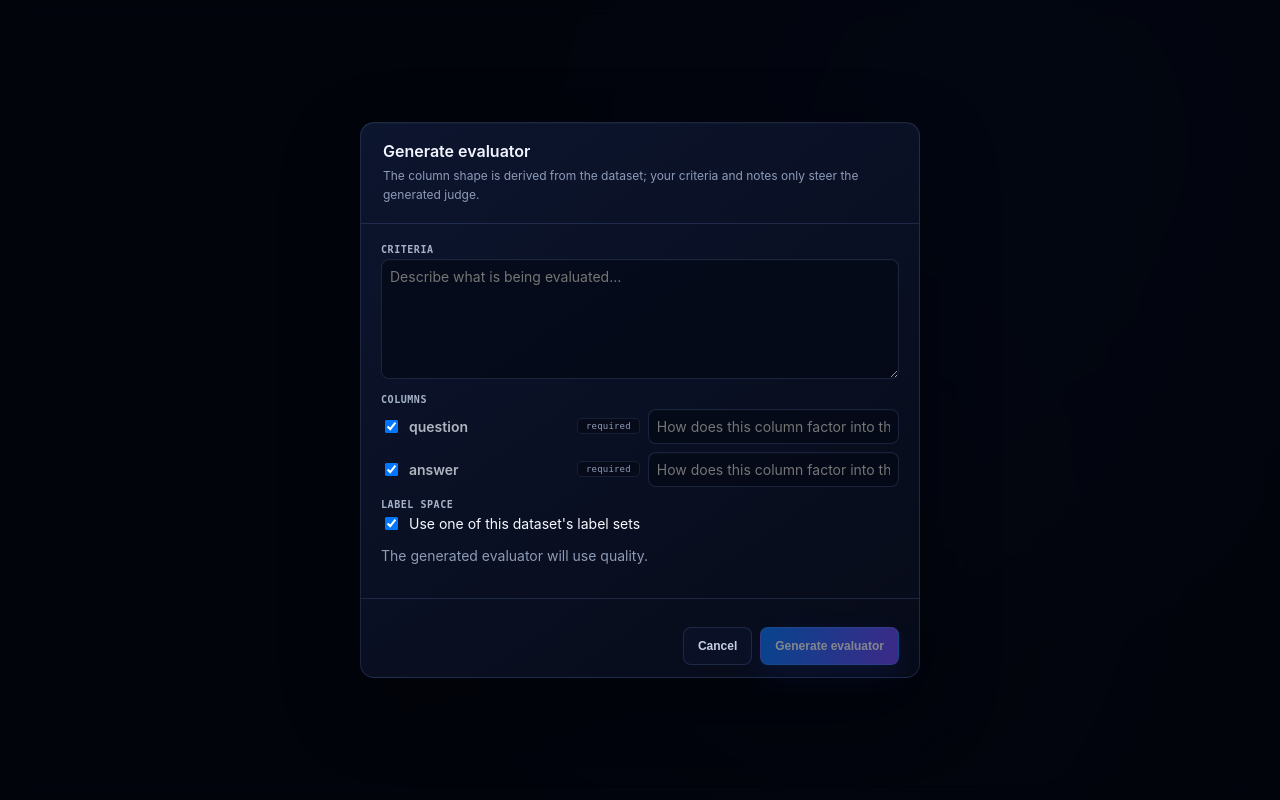
Scenario: EvaluatorFromDataset › keeps submit disabled until criteria are entered
The image size is (1280, 800).
Expected: the button "Generate evaluator" is disabled, [760,627,899,665]
Type "Judge answer quality." into the text box labelled "Criteria" at (640, 319), box [381,259,899,379]
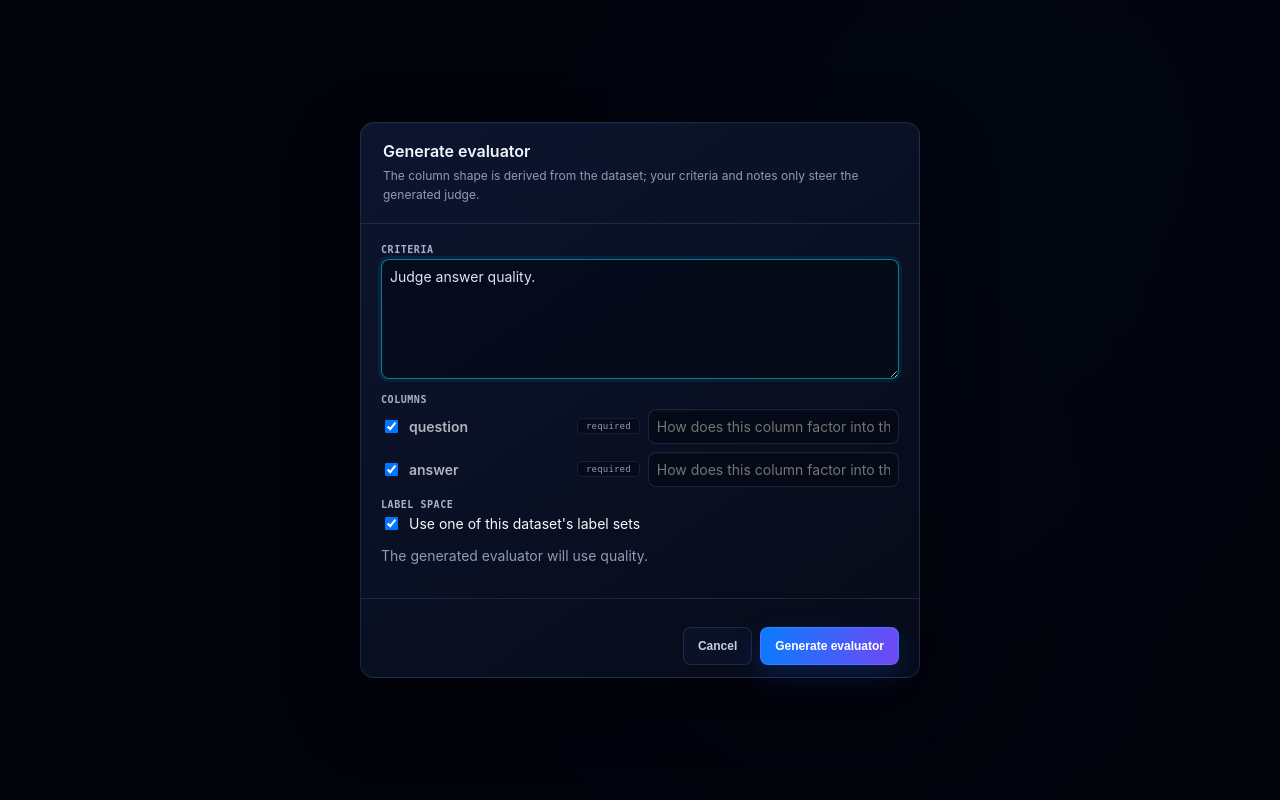
Expected: the button "Generate evaluator" is enabled, [760,627,899,665]
